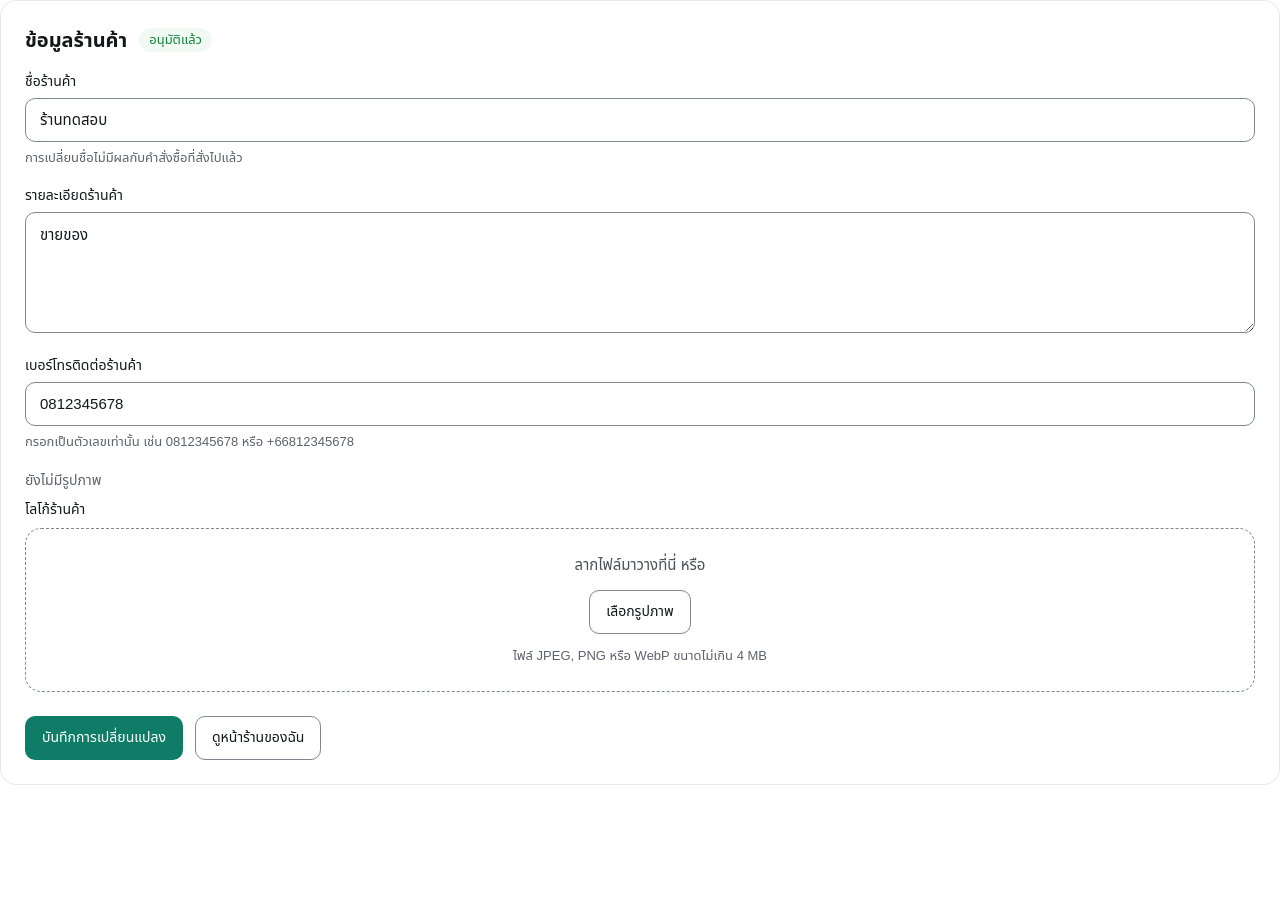
Scenario: StoreSection and StoreForm › puts a name conflict under the name field
Replace the text in the field labelled "ชื่อร้านค้า" with "ซ้ำ" at (640, 120), box [25, 98, 1255, 142]
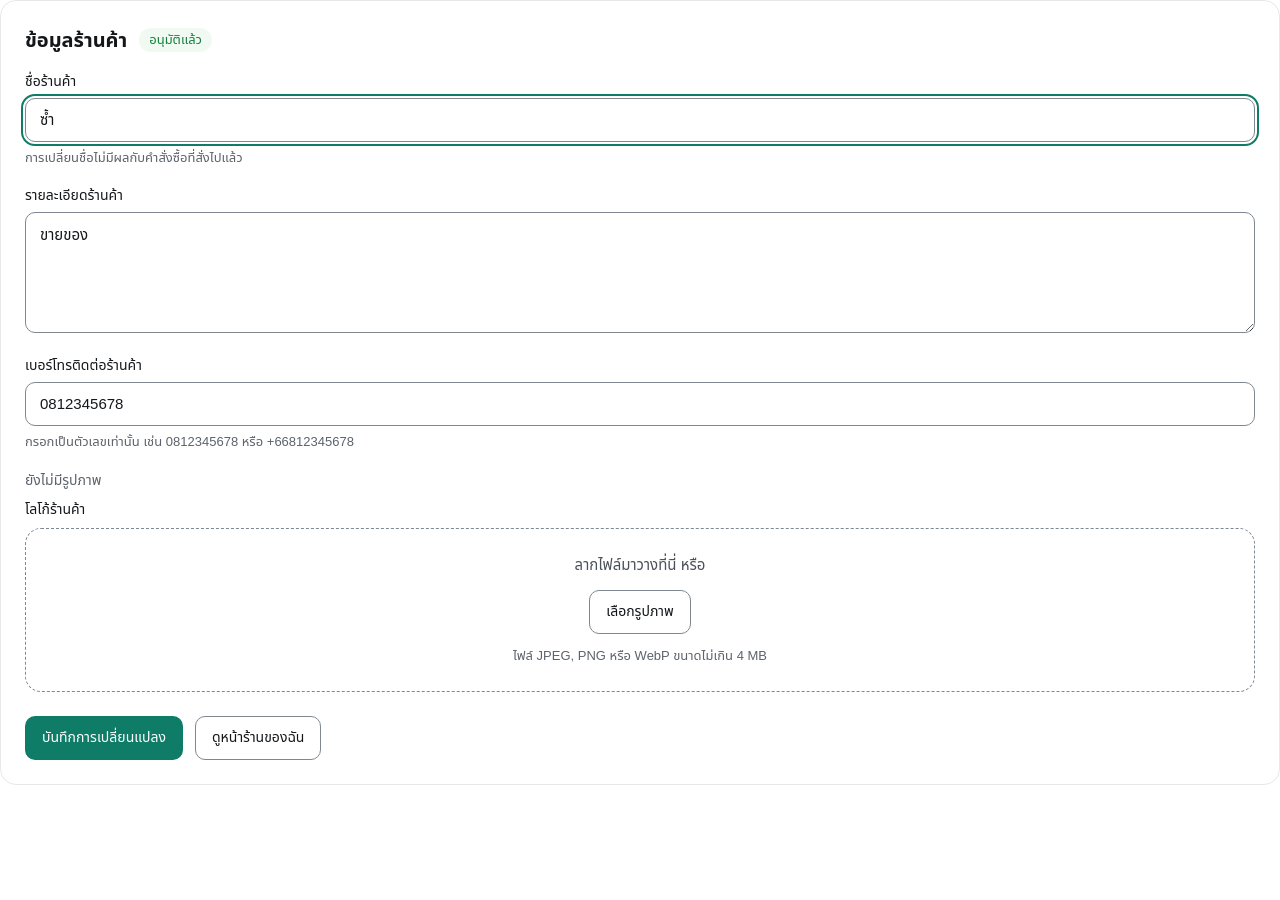
Click the button "บันทึกการเปลี่ยนแปลง".
click(104, 738)  # box [25, 716, 183, 760]
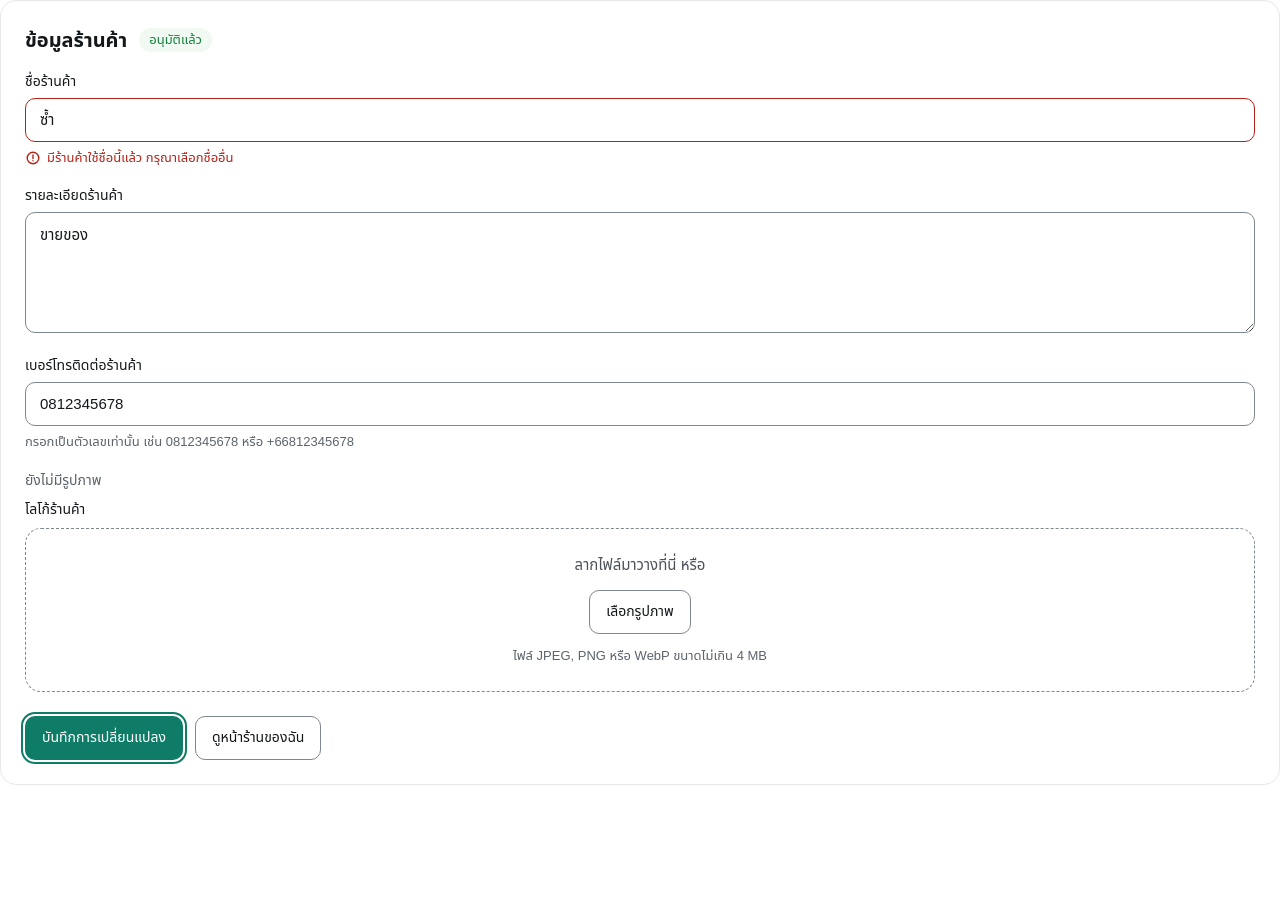
Expected: the text "มีร้านค้าใช้ชื่อนี้แล้ว กรุณาเลือกชื่ออื่น" is shown, [47, 148, 234, 169]
